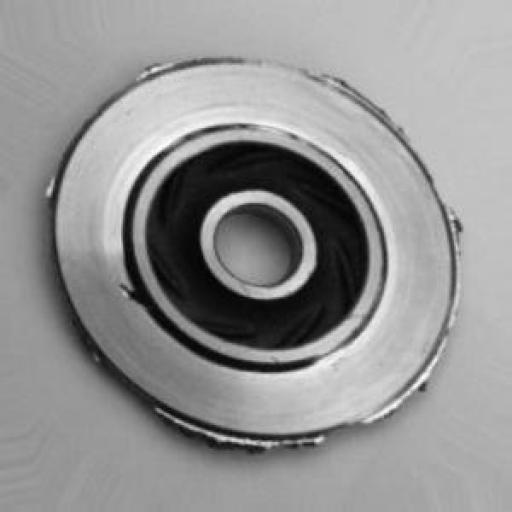defect: (32, 37, 484, 478)
